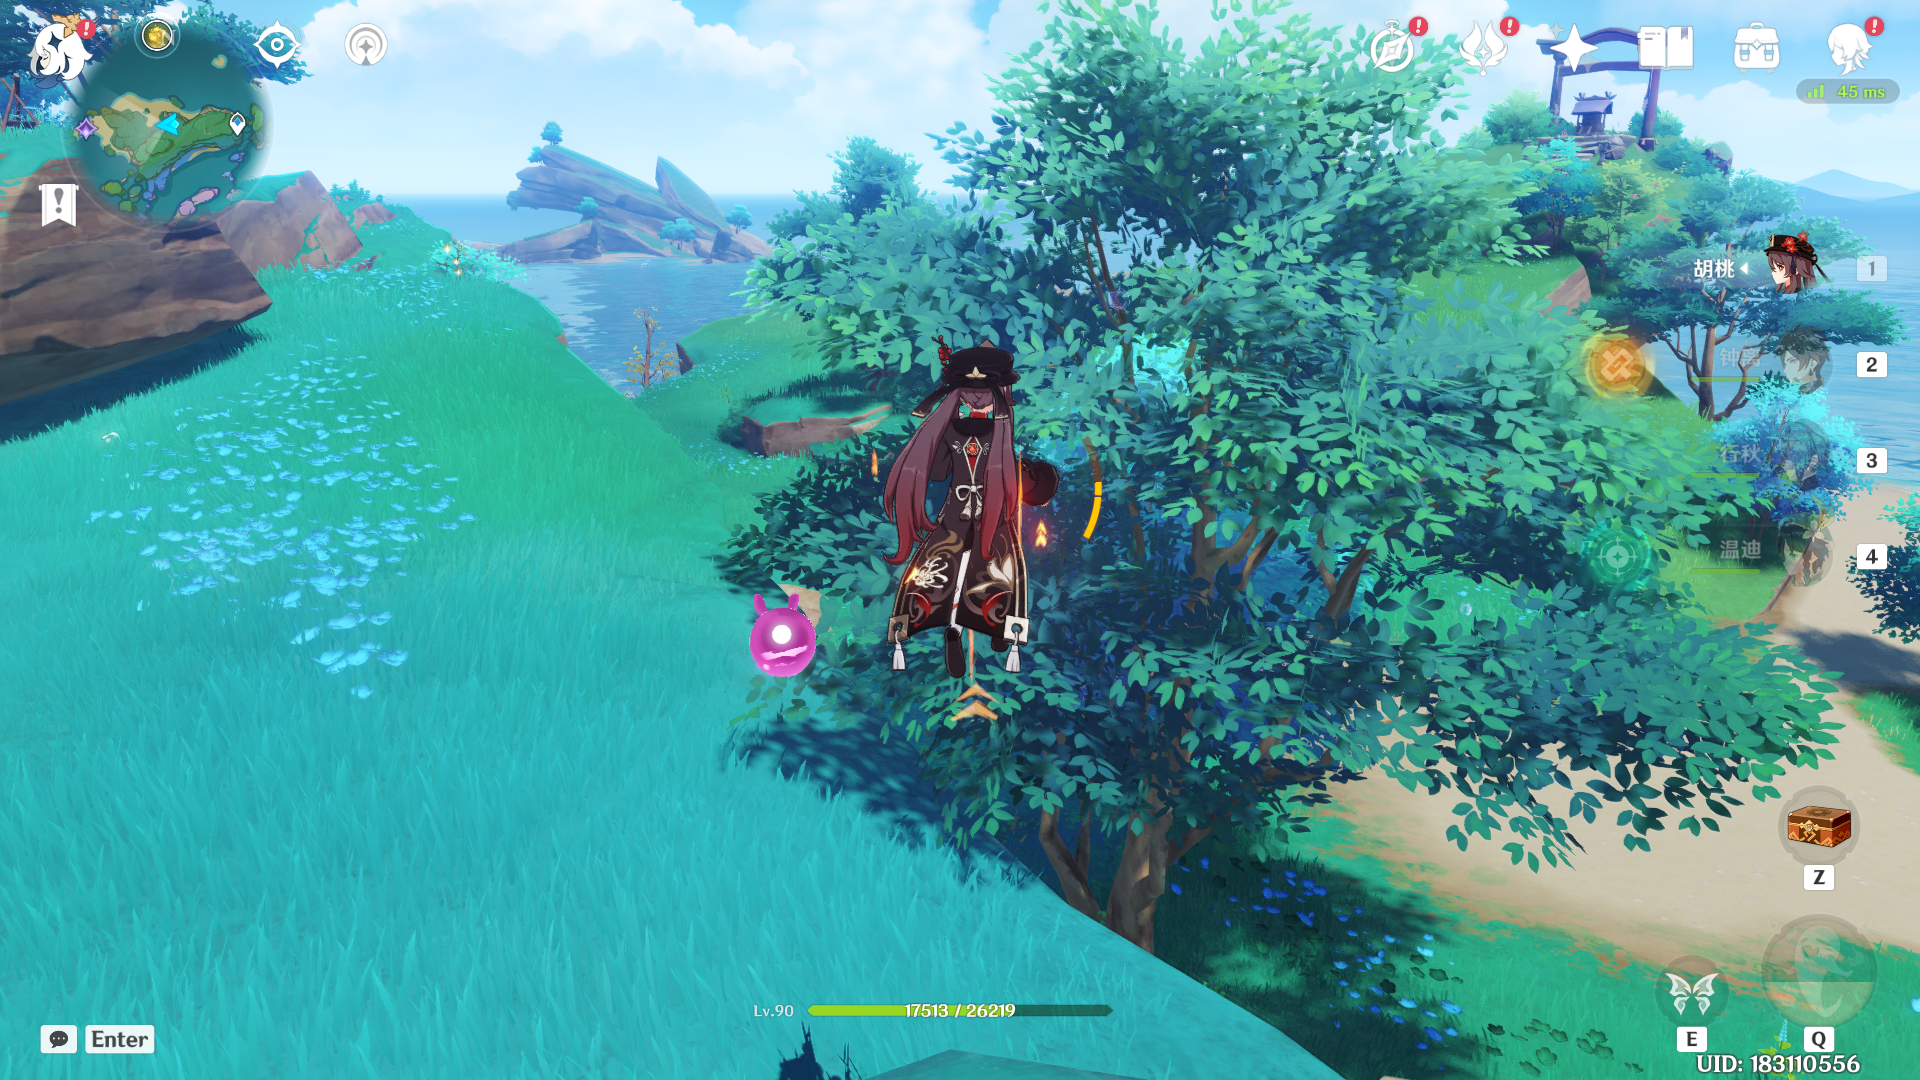character: (790, 306, 1122, 719)
